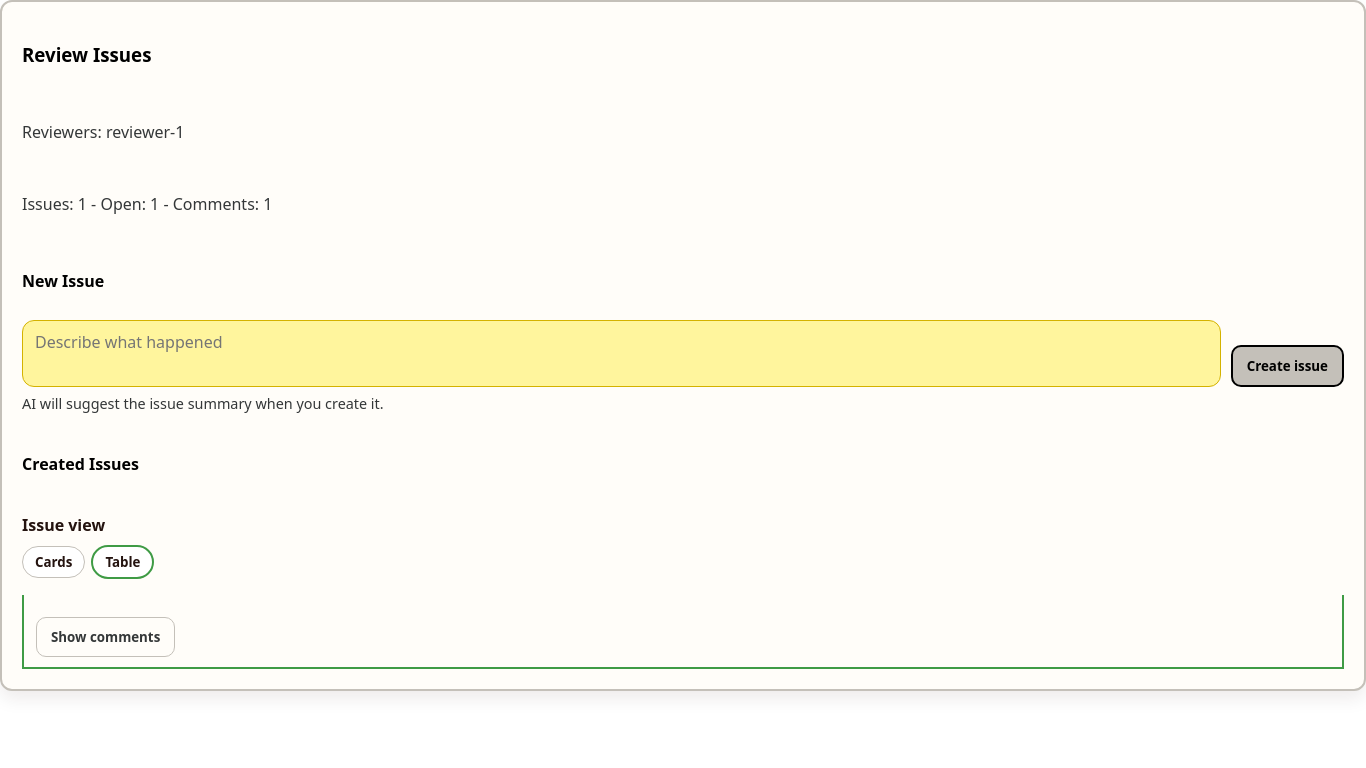
Test: ReviewIssuesPanel › keeps selected issue table comments hidden by default and lets the user show them
This screenshot has width=1366, height=768.
Check: the heading "Created Issues" is shown, box left=22, top=453, right=139, bottom=475
Check: the text "Please add evidence." is not shown
What coordinates should you click on to do the following:
click the button "Show comments"
I would click on:
 (106, 637)
Its box is left=36, top=617, right=175, bottom=657.
(page scrolled)
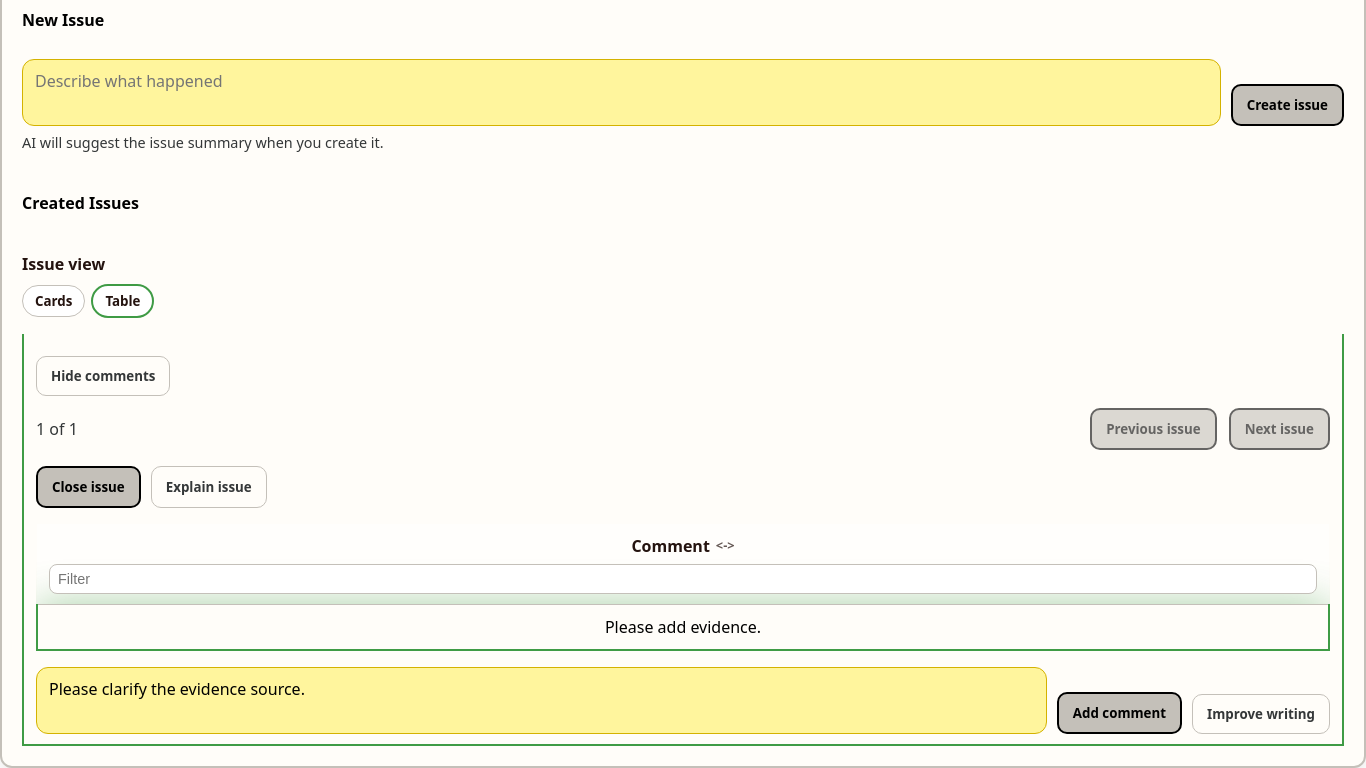
Check: the button "Hide comments" is shown, box left=36, top=356, right=170, bottom=396
Check: the button "Comment <->" is shown, box left=37, top=524, right=1329, bottom=604
Check: the text "Please add evidence." is shown once, box left=37, top=604, right=1329, bottom=650
